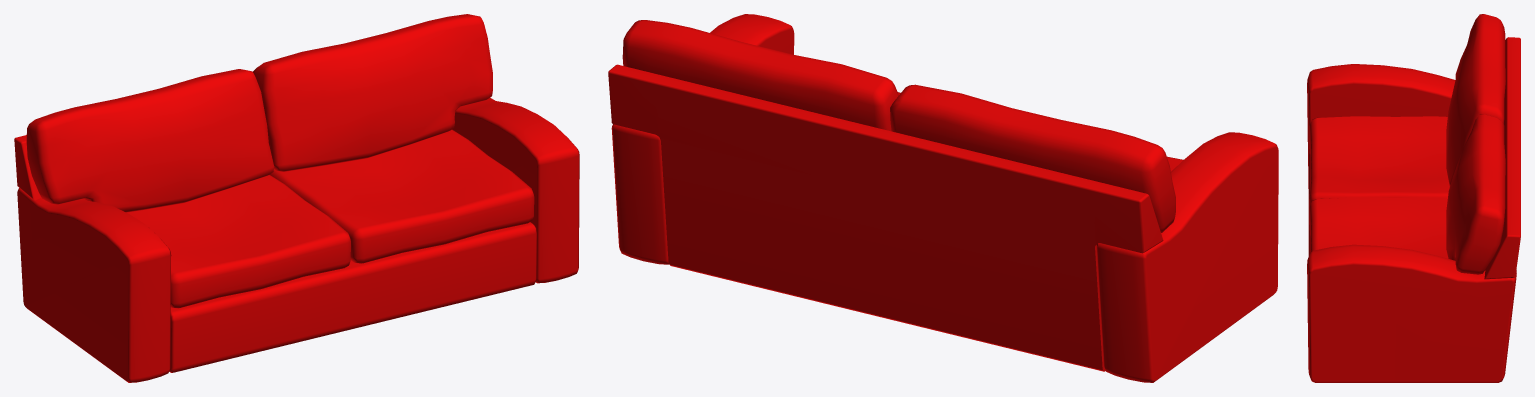
The model's file is sofa.fbx.
3 views of the same model, side by side, from view 1: azimuth 30°, elevation 25°; view 2: azimuth 150°, elevation 25°; view 3: azimuth 270°, elevation 25° (orthographic). The views are drawn at different scales.
Visible parts, largest first — view 1: sofaBase, sofaCusion2, sofaCusion1, sofaCusion3, sofaCusion4; view 2: sofaBase, sofaCusion2, sofaCusion1; view 3: sofaBase, sofaCusion4, sofaCusion1, sofaCusion3, sofaCusion2.
Part boxes in pixels (bbox=[...]): sofaBase: bbox=[14, 97, 579, 382]; sofaCusion2: bbox=[26, 69, 274, 212]; sofaCusion1: bbox=[253, 14, 492, 171]; sofaCusion3: bbox=[269, 129, 534, 263]; sofaCusion4: bbox=[127, 175, 350, 308]; sofaBase: bbox=[608, 14, 1278, 382]; sofaCusion2: bbox=[890, 84, 1175, 232]; sofaCusion1: bbox=[622, 20, 898, 131]; sofaBase: bbox=[1307, 37, 1520, 382]; sofaCusion4: bbox=[1309, 116, 1449, 206]; sofaCusion1: bbox=[1446, 114, 1505, 274]; sofaCusion3: bbox=[1309, 197, 1448, 258]; sofaCusion2: bbox=[1446, 14, 1505, 186].
Size of the model in its own units: 221 by 92.04 by 100.
